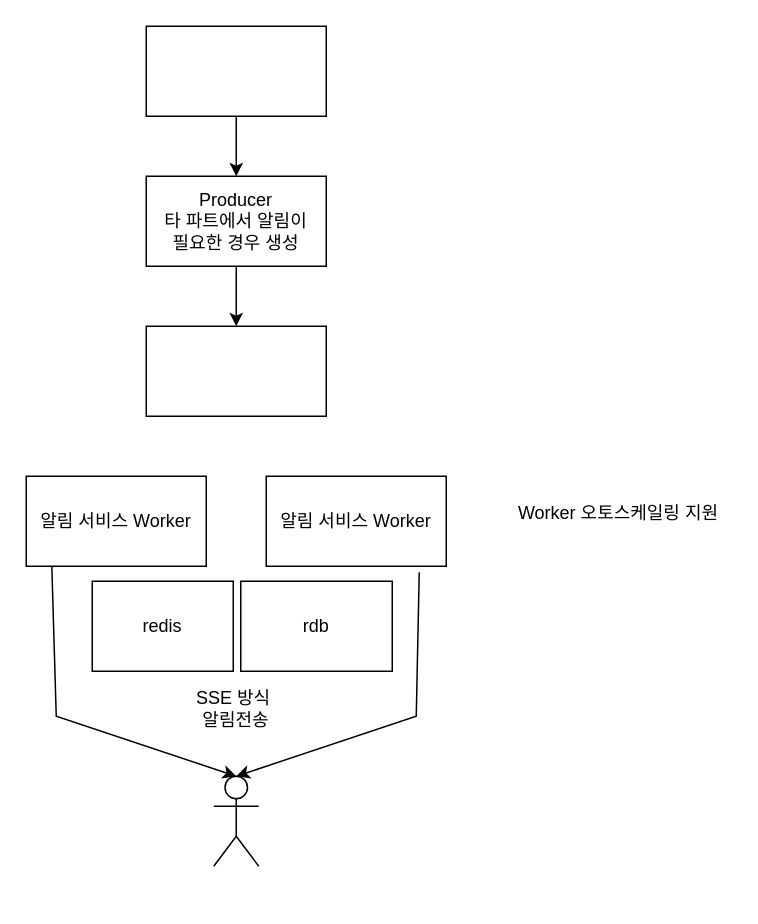
Some shapes in this 758 by 924 pixel diagram are drawn without their labels. Here are the shapes that lost their labels. From the top down, the centre of each, then its label:
the point at 235,70: API Gateway
the point at 235,370: Kafka (메시지 큐, 유실 방지)
the point at 235,820: 사용자 웹 브라우저
